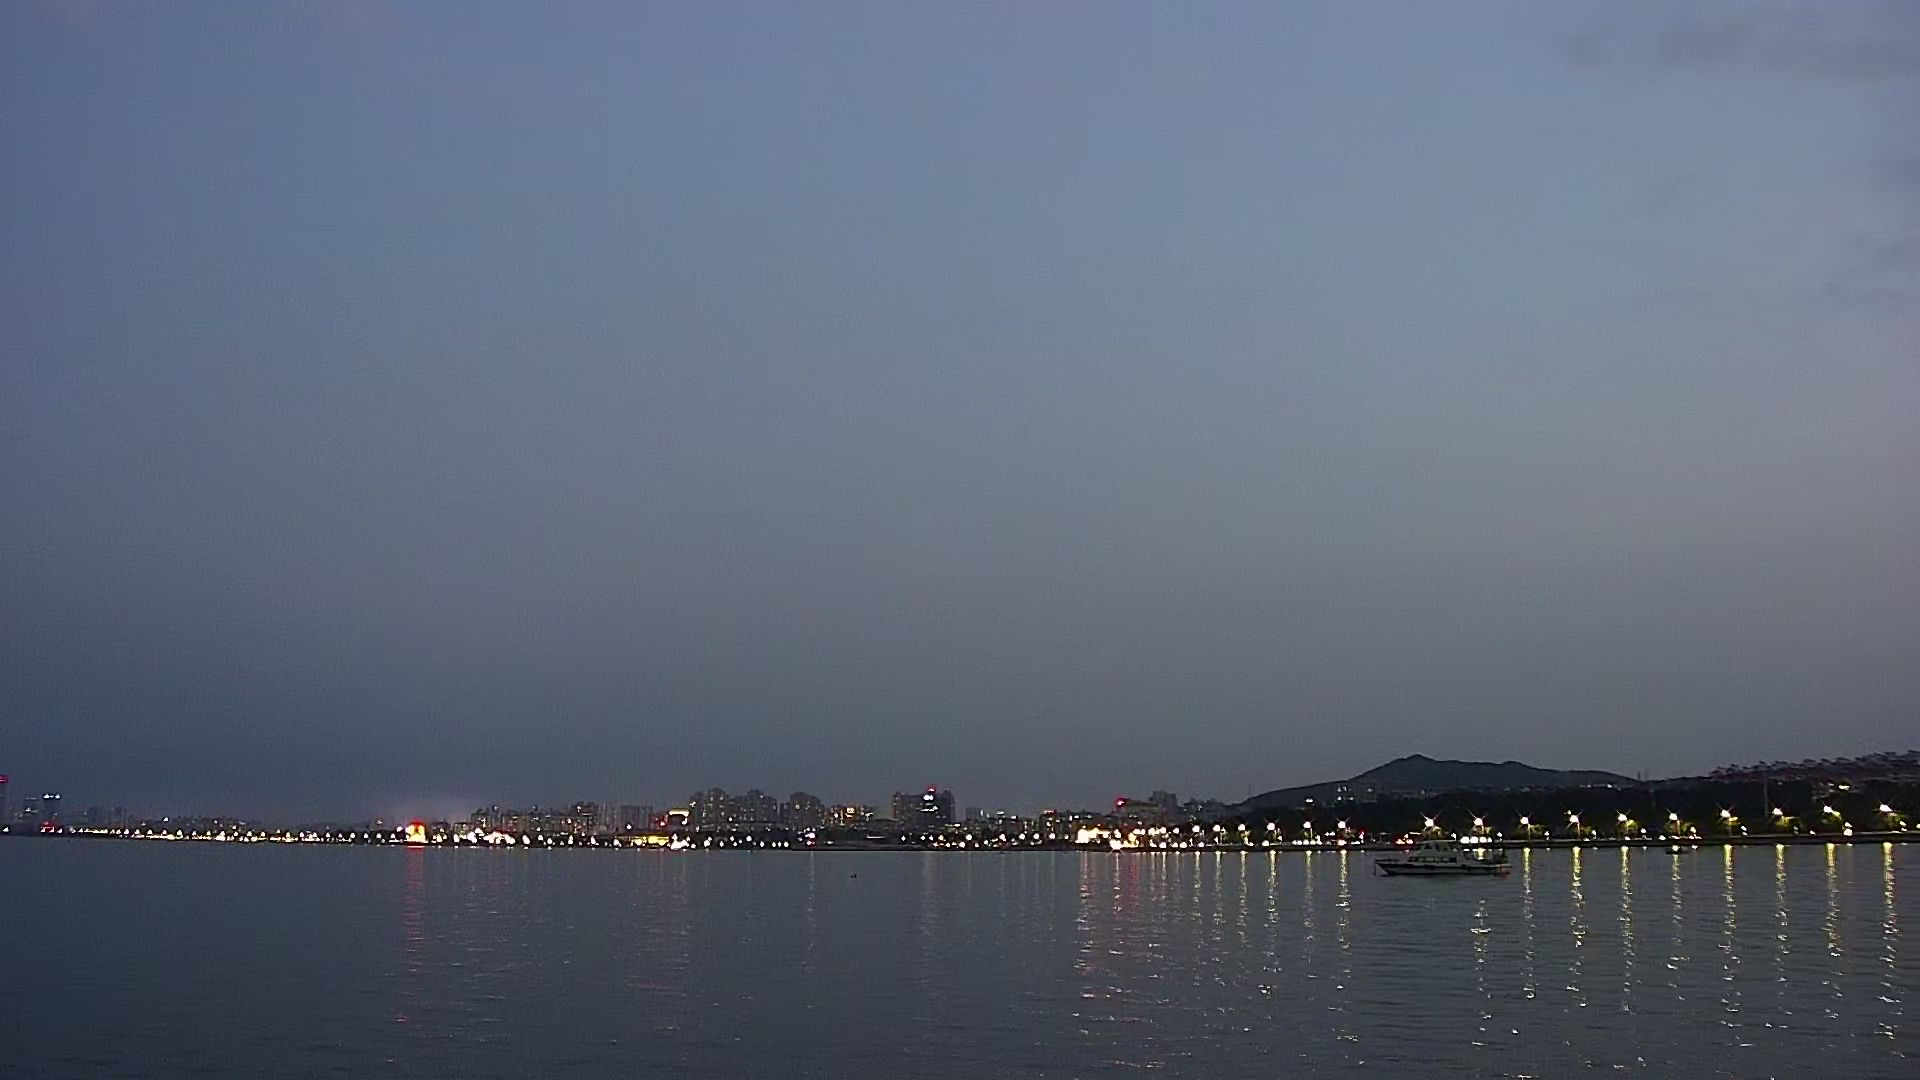ship: (1371, 825, 1516, 887)
